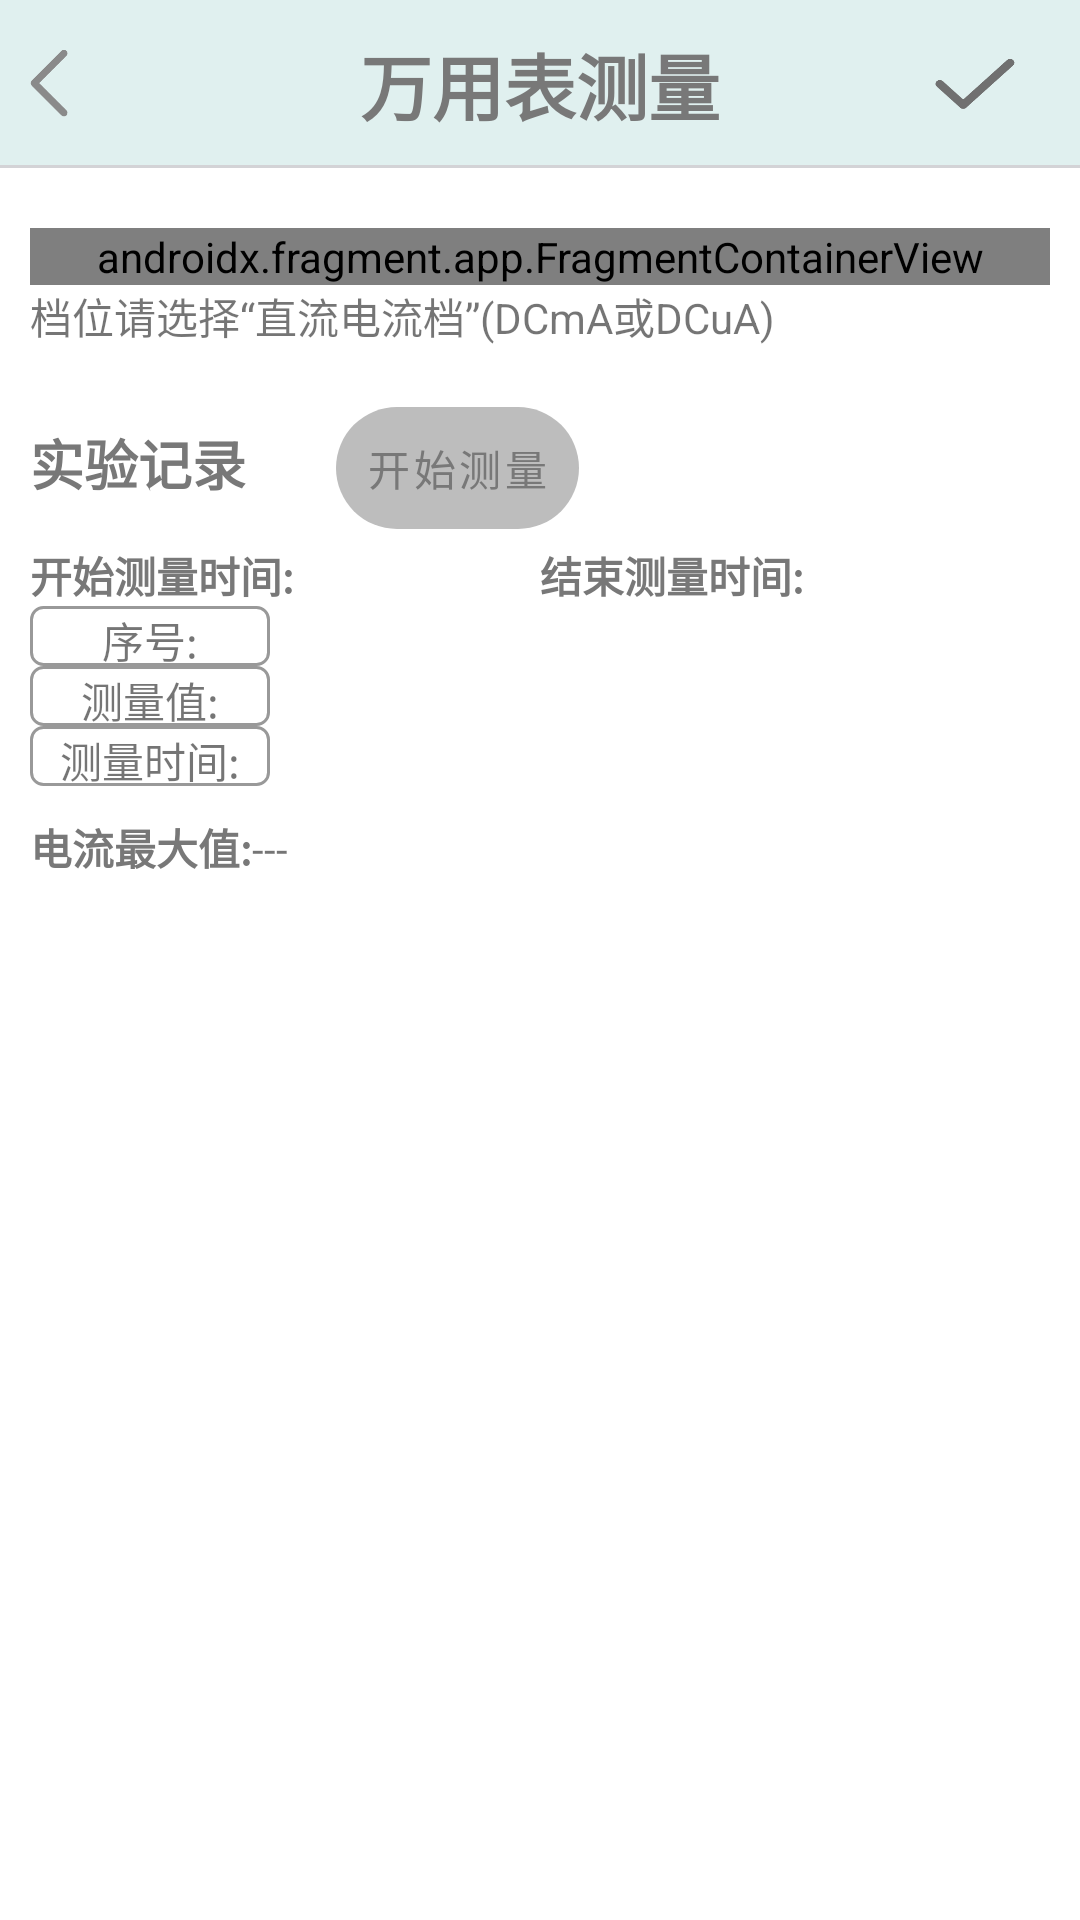

Icon bounding boxes for this 1080w x 1920h phone screenshot, format Rect(x1, y1, x2, y2):
back: Rect(31, 50, 68, 116)
save: Rect(935, 59, 1015, 109)
